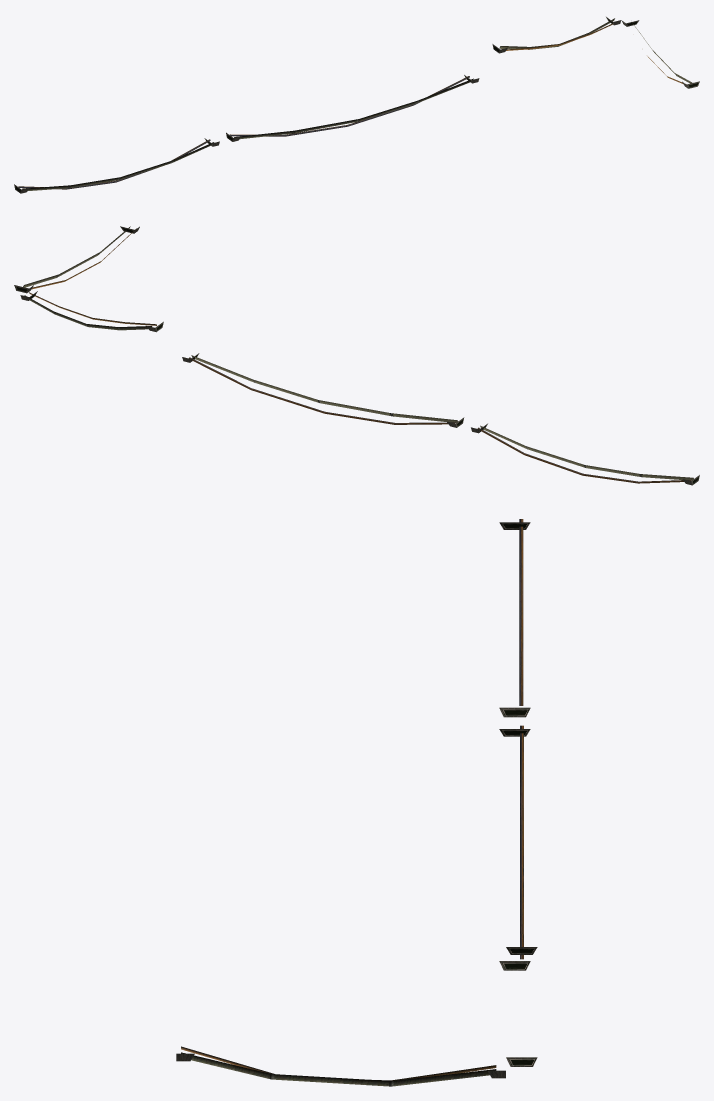
The model's file is M12_TopPipes_F.glb.
The picture shows the model from 3 angles, top to bottom: view 1: azimuth 30°, elevation 25°; view 2: azimuth 150°, elevation 25°; view 3: azimuth 270°, elevation 25°; orthographic projection. The views are drawn at different scales.
Visible parts, largest first — view 1: M12_TOPPIPES_F; view 2: M12_TOPPIPES_F; view 3: M12_TOPPIPES_F.
Boxes of the visible parts, x1,y1,x2,y2 form: M12_TOPPIPES_F: (14, 17, 699, 193); M12_TOPPIPES_F: (14, 226, 699, 485); M12_TOPPIPES_F: (176, 519, 537, 1086).
Size of the model in its own units: 14.73 by 1.01 by 3.75.
1 material, 1 textured.
